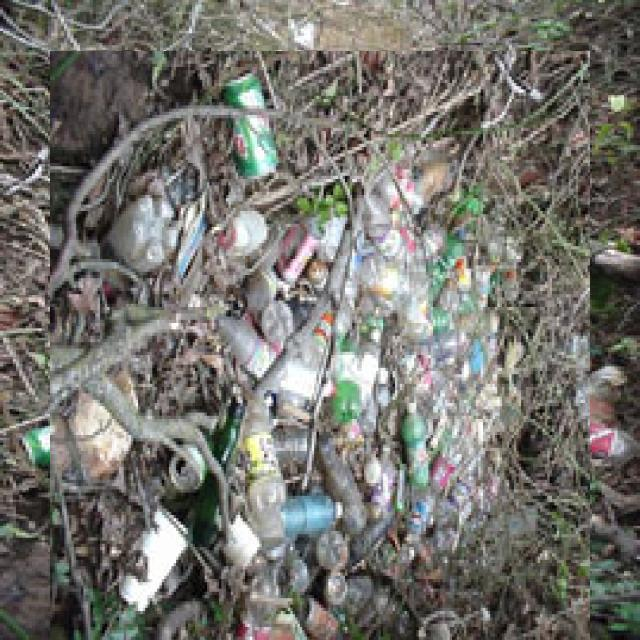garbage: (25, 75, 615, 640)
